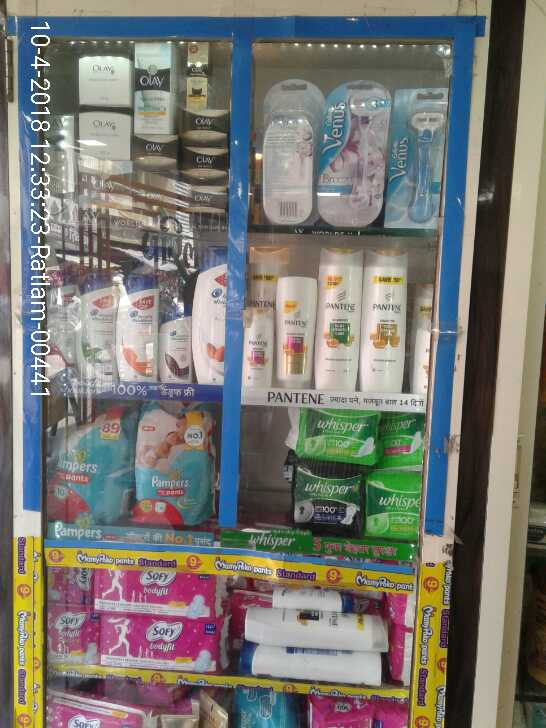venus: (323, 79, 387, 228), (261, 79, 323, 224), (387, 87, 440, 231)
